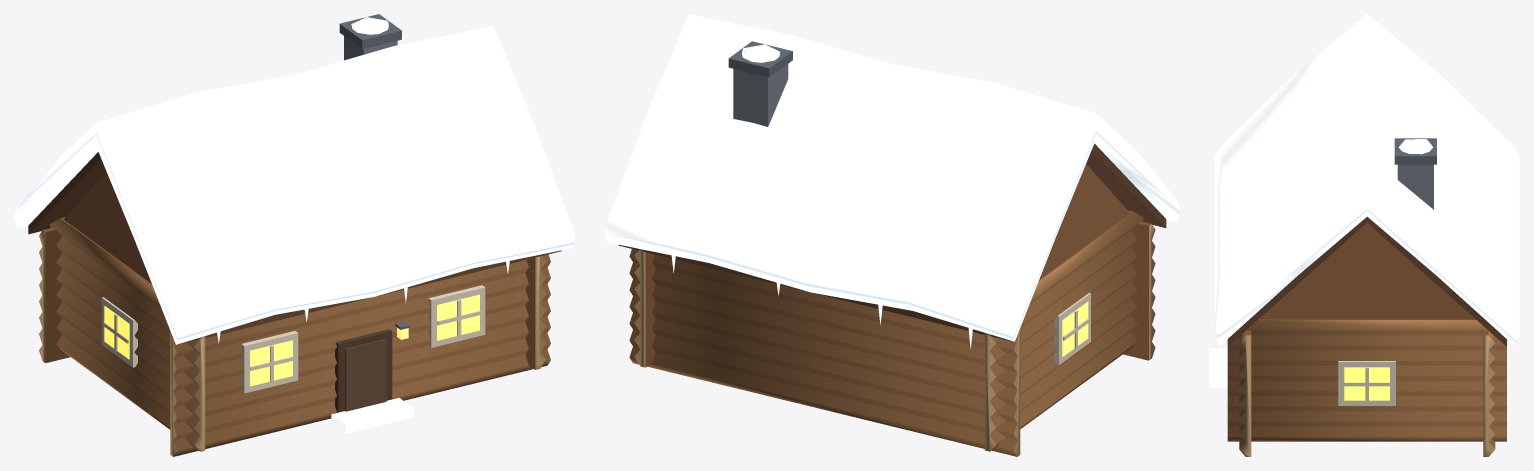
Rendered from lodge.glb.
The picture shows the model from 3 angles, left to right: view 1: azimuth 30°, elevation 25°; view 2: azimuth 150°, elevation 25°; view 3: azimuth 270°, elevation 25°; orthographic projection. The views are drawn at different scales.
Parts seen in each view (by area): view 1: lodge; view 2: lodge; view 3: lodge.
Boxes of the visible parts, <box> form: lodge: <box>14,14,575,456</box>; lodge: <box>604,14,1180,456</box>; lodge: <box>1209,14,1519,456</box>.
Bounding box in the file's own units: 14 × 10 × 10.22.
